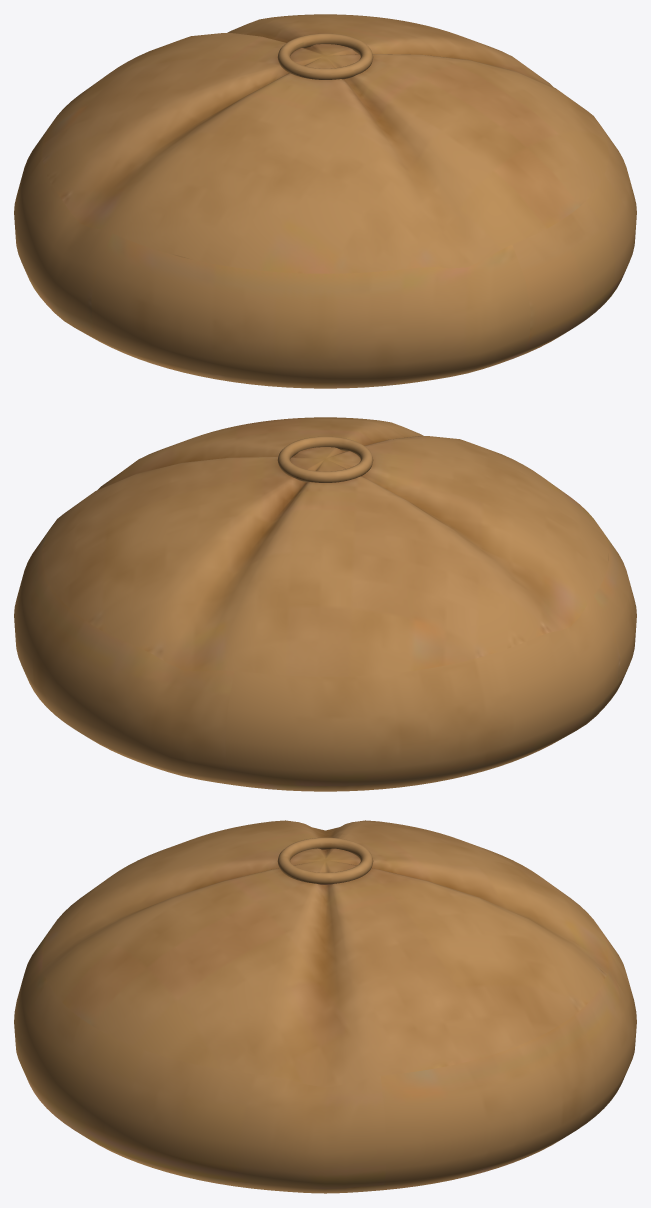
The model's file is bread_loaf.glb.
The picture shows the model from 3 angles, top to bottom: view 1: azimuth 30°, elevation 25°; view 2: azimuth 150°, elevation 25°; view 3: azimuth 270°, elevation 25°; orthographic projection.
Visible parts, largest first — view 1: bread_loaf; view 2: bread_loaf; view 3: bread_loaf.
Boxes of the visible parts, box(x1,y1,x2,y2) form: bread_loaf: box(14, 14, 636, 388); bread_loaf: box(14, 417, 636, 791); bread_loaf: box(14, 820, 636, 1193).
Size of the model in its own units: 0.1798 by 0.0723 by 0.1798.
Materials: 1 (1 with a texture image).
